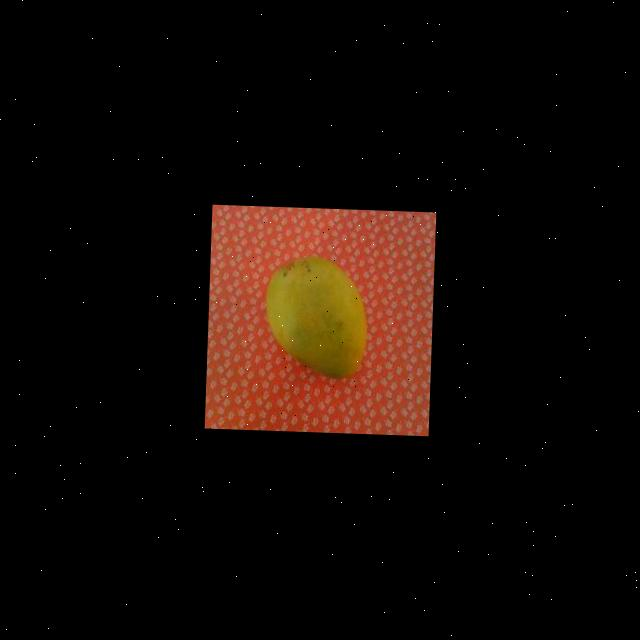Mango: (263, 252, 371, 379)
